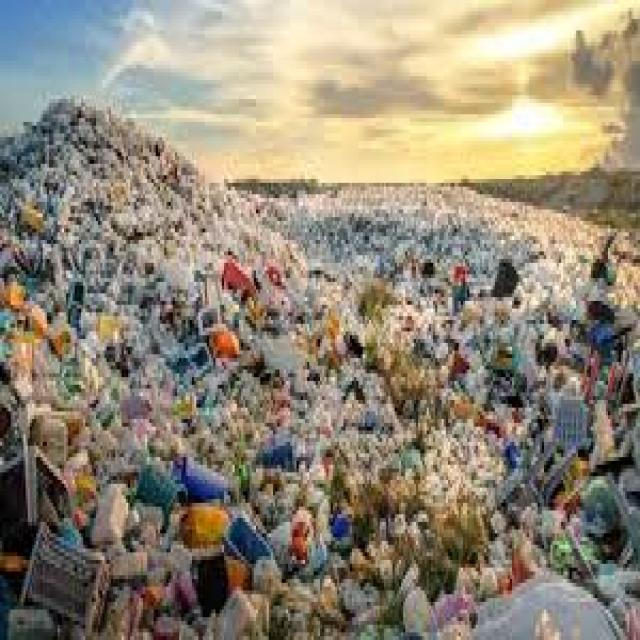heap: (19, 200, 634, 619)
